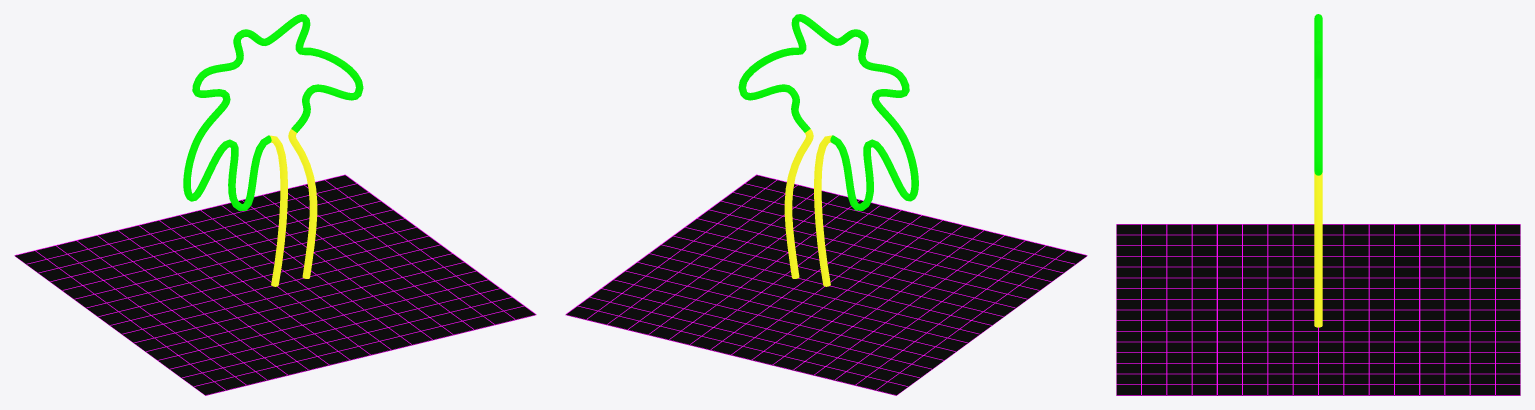
Rendered from retrowave-neon-palm.glb.
3 views of the same model, side by side, from view 1: azimuth 30°, elevation 25°; view 2: azimuth 150°, elevation 25°; view 3: azimuth 270°, elevation 25° (orthographic). The views are drawn at different scales.
Parts seen in each view (by area): view 1: Floor, Leaves, Trunk R, Trunk L; view 2: Floor, Leaves, Trunk R, Trunk L; view 3: Floor, Leaves, Trunk R.
Part boxes in pixels (x1,y1,x2,y2): Floor: [14, 174, 536, 395]; Leaves: [183, 14, 363, 210]; Trunk R: [288, 129, 317, 278]; Trunk L: [269, 135, 287, 286]; Floor: [565, 174, 1087, 395]; Leaves: [738, 14, 918, 210]; Trunk R: [784, 129, 813, 278]; Trunk L: [814, 135, 831, 286]; Floor: [1116, 224, 1520, 395]; Leaves: [1314, 14, 1322, 175]; Trunk R: [1314, 172, 1322, 327].
Size of the model in its own units: 20 by 15.32 by 20.
